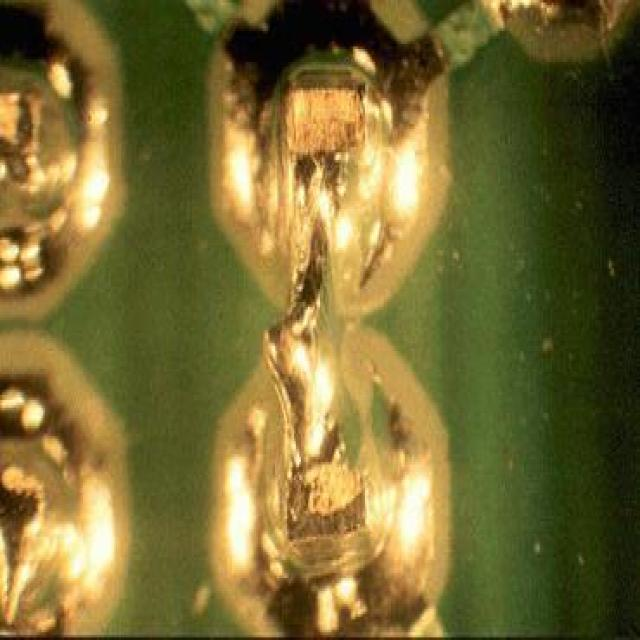Short_circuit: (210, 0, 451, 637)
